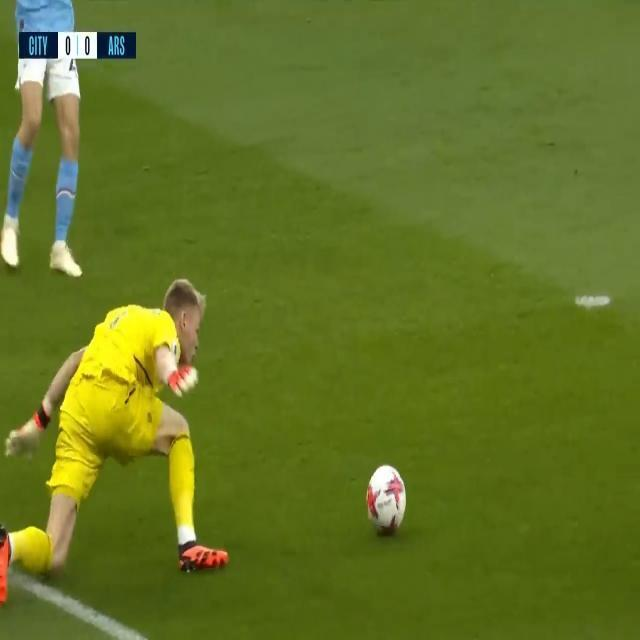ball: (351, 427, 421, 556)
goalkeeper: (1, 272, 255, 621)
player: (0, 0, 126, 279)
